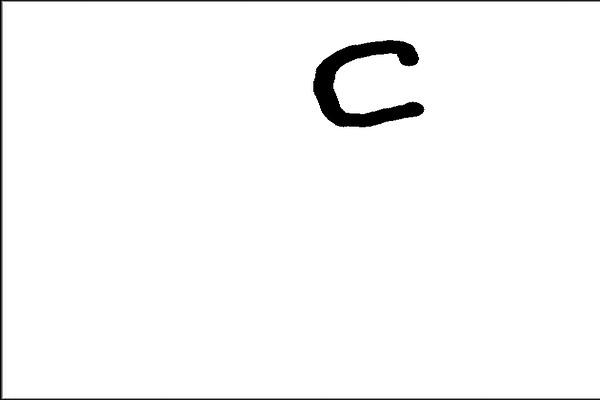C: (306, 32, 427, 131)
